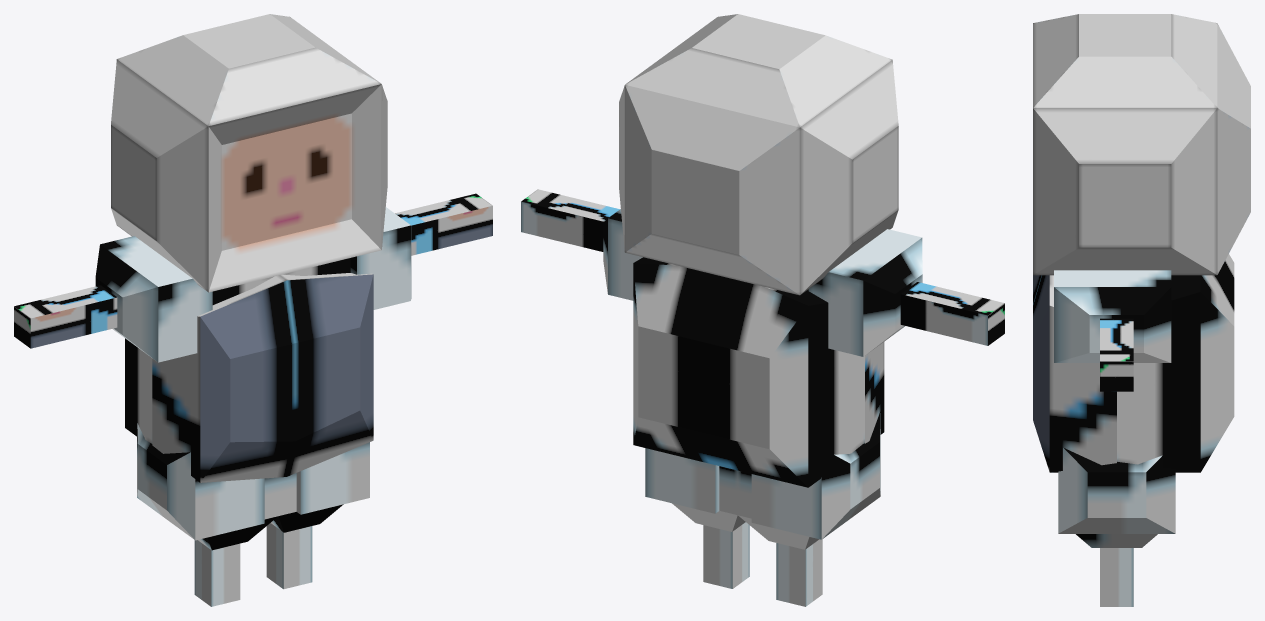
Rendered from blockbenchSheep.glb.
3 renders of one model, left to right at view 1: azimuth 30°, elevation 25°; view 2: azimuth 150°, elevation 25°; view 3: azimuth 270°, elevation 25°, orthographic.
Parts seen in each view (by area): view 1: cube.018, cube.008, cube.017, cube.002, cube.016, cube.014, cube.003, cube.015, cube.011, cube, cube.001, cube.009; view 2: cube.018, cube.009, cube.017, cube.002, cube.016, cube.014, cube.003, cube.011, cube, cube.001, cube.015, cube.008; view 3: cube.018, cube.009, cube.015, cube.008, cube.003, cube.014, cube.001, cube.011.
Part boxes in pixels (left/top/right/bottom): cube.018: left=111, top=14, right=387, bottom=292; cube.008: left=152, top=273, right=373, bottom=482; cube.017: left=95, top=236, right=212, bottom=362; cube.002: left=137, top=423, right=264, bottom=540; cube.016: left=14, top=285, right=117, bottom=348; cube.014: left=395, top=193, right=492, bottom=255; cube.003: left=296, top=442, right=369, bottom=514; cube.015: left=350, top=207, right=411, bottom=309; cube.011: left=198, top=473, right=343, bottom=550; cube: left=194, top=540, right=240, bottom=606; cube.001: left=266, top=523, right=312, bottom=589; cube.009: left=125, top=338, right=152, bottom=443; cube.018: left=619, top=14, right=898, bottom=295; cube.009: left=633, top=257, right=864, bottom=487; cube.017: left=808, top=229, right=922, bottom=356; cube.002: left=751, top=411, right=880, bottom=539; cube.016: left=900, top=282, right=1004, bottom=345; cube.014: left=521, top=189, right=619, bottom=251; cube.003: left=645, top=448, right=719, bottom=513; cube.011: left=672, top=466, right=818, bottom=549; cube: left=776, top=539, right=822, bottom=606; cube.001: left=703, top=522, right=749, bottom=588; cube.015: left=603, top=209, right=642, bottom=300; cube.008: left=863, top=342, right=884, bottom=443; cube.018: left=1033, top=14, right=1250, bottom=275; cube.009: left=1117, top=254, right=1234, bottom=472; cube.015: left=1054, top=270, right=1171, bottom=362; cube.008: left=1033, top=275, right=1116, bottom=472; cube.003: left=1058, top=447, right=1175, bottom=533; cube.014: left=1100, top=318, right=1133, bottom=391; cube.001: left=1100, top=548, right=1133, bottom=606; cube.011: left=1076, top=534, right=1157, bottom=547.
Bounding box in the file's own units: 2 × 2.25 × 0.8125.
Materials: 3 (3 with a texture image).
